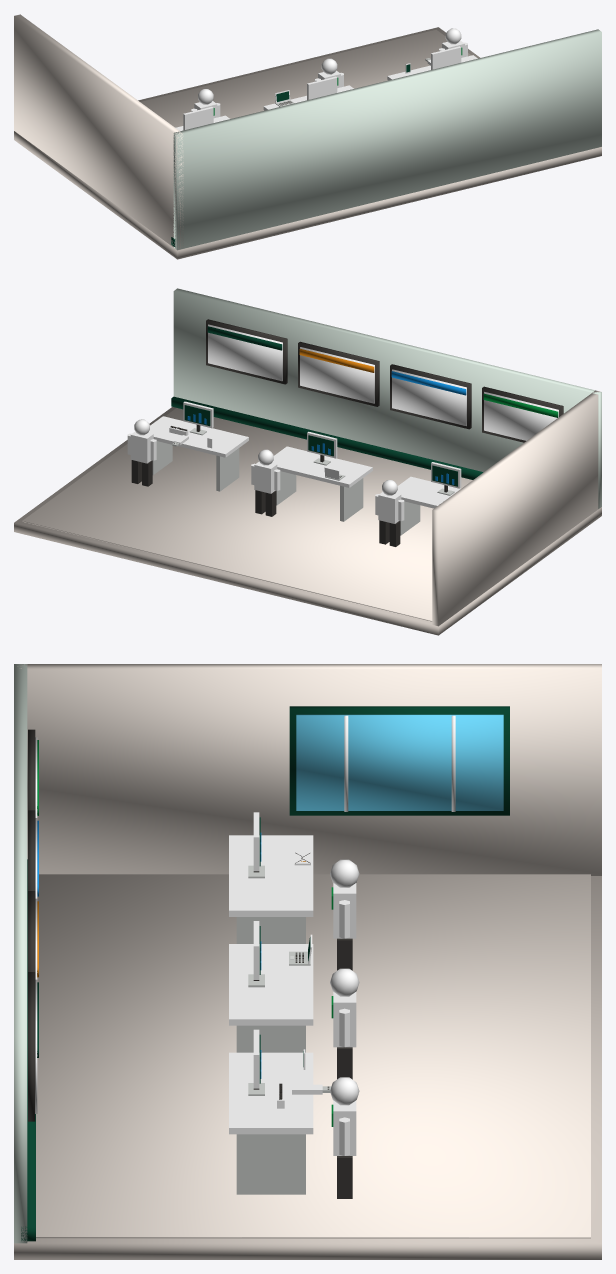
Rendered from incident_room.glb.
3 views of the same model, one above another, from view 1: azimuth 30°, elevation 25°; view 2: azimuth 150°, elevation 25°; view 3: azimuth 270°, elevation 25° (orthographic). The views are drawn at different scales.
Visible parts, largest first — view 1: back-wall, side-wall, floor-inlay, raised-floor, 2_monitor_white, 5_monitor_white, 8_monitor_white; view 2: floor-inlay, back-wall, side-wall, raised-floor, back-skirt, display-2, display-1, display-3, 4_desktop_white, display-0, 7_desktop_white, 4_leg_stone (+17 smaller); view 3: floor-inlay, side-wall, window-inset, raised-floor, back-wall, 1_desktop_white, 4_desktop_white, 7_desktop_white, window-frame, 7_leg_stone, 4_leg_stone, 1_leg_stone (+5 smaller).
Part boxes in pixels (box(x1,y1,x2,y2)): back-wall: box(173, 29, 601, 250); side-wall: box(14, 14, 183, 249); floor-inlay: box(140, 29, 471, 127); raised-floor: box(14, 27, 601, 259); 2_monitor_white: box(183, 107, 213, 130); 5_monitor_white: box(307, 76, 337, 100); 8_monitor_white: box(431, 46, 461, 69); floor-inlay: box(22, 408, 472, 621); back-wall: box(173, 288, 601, 508); side-wall: box(432, 390, 600, 626); raised-floor: box(14, 407, 601, 635); back-skirt: box(171, 396, 483, 479); display-2: box(300, 347, 374, 403); display-1: box(392, 369, 466, 426); display-3: box(208, 324, 282, 381); 4_desktop_white: box(272, 446, 372, 487); display-0: box(484, 391, 558, 440); 7_desktop_white: box(148, 416, 248, 457); 4_leg_stone: box(275, 471, 363, 521); floor-inlay: box(36, 874, 590, 1238); side-wall: box(17, 664, 601, 875); window-inset: box(296, 714, 503, 810); raised-floor: box(14, 876, 601, 1259); back-wall: box(14, 664, 27, 1243); 1_desktop_white: box(229, 835, 313, 916); 4_desktop_white: box(229, 944, 313, 1025); 7_desktop_white: box(229, 1052, 313, 1134); window-frame: box(289, 706, 509, 815); 7_leg_stone: box(236, 1134, 305, 1194); 4_leg_stone: box(236, 1025, 305, 1052); 1_leg_stone: box(236, 917, 305, 943).
Bounding box in the file's own units: 12 × 3.35 × 8.
